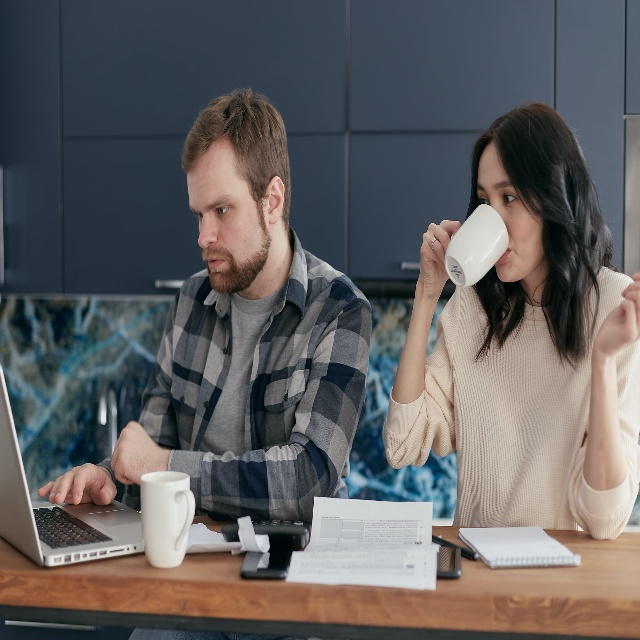Sin_guantes: (593, 272, 640, 356), (38, 462, 119, 509), (110, 420, 160, 487), (419, 219, 461, 286)
